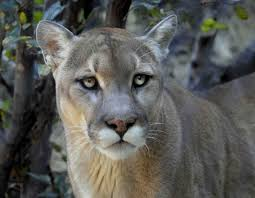Mountain Lion: (33, 16, 254, 195)
